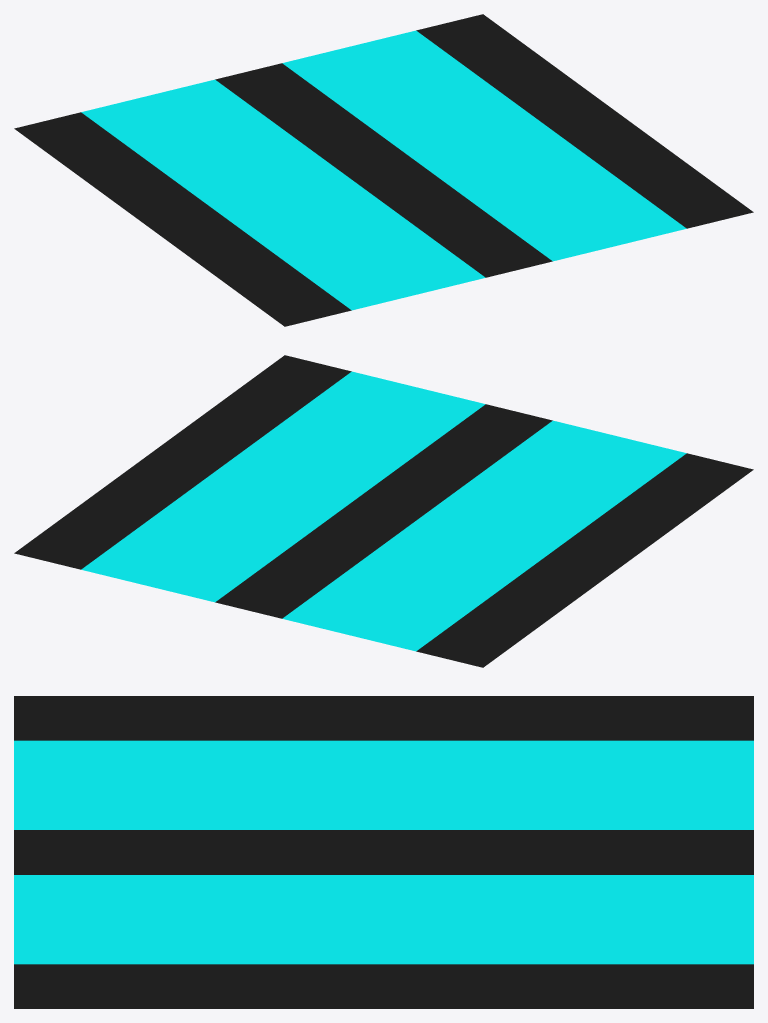
The model's file is RaceTrack_Straight_5m 1.fbx.
The picture shows the model from 3 angles, top to bottom: view 1: azimuth 30°, elevation 25°; view 2: azimuth 150°, elevation 25°; view 3: azimuth 270°, elevation 25°; orthographic projection. The views are drawn at different scales.
Parts seen in each view (by area): view 1: Straight_5m; view 2: Straight_5m; view 3: Straight_5m.
Boxes of the visible parts, box(x1,y1,x2,y2) form: Straight_5m: box(14, 14, 753, 326); Straight_5m: box(14, 355, 753, 667); Straight_5m: box(14, 696, 753, 1008).
Bounding box in the file's own units: 5 × 4.37e-07 × 5.
